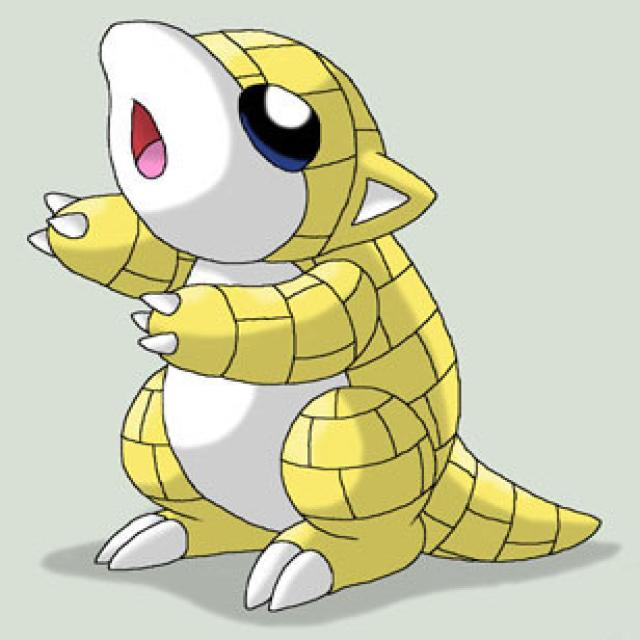Sandshrew: (11, 12, 447, 630)
